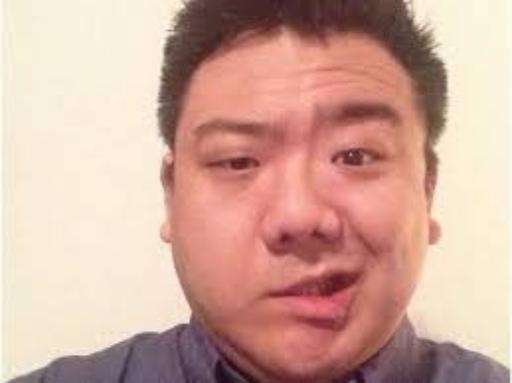left_eye: (326, 148, 390, 172)
left_lip_corner: (346, 265, 373, 284)
right_eye: (205, 155, 262, 176)
right_lip_corner: (256, 287, 281, 306)
